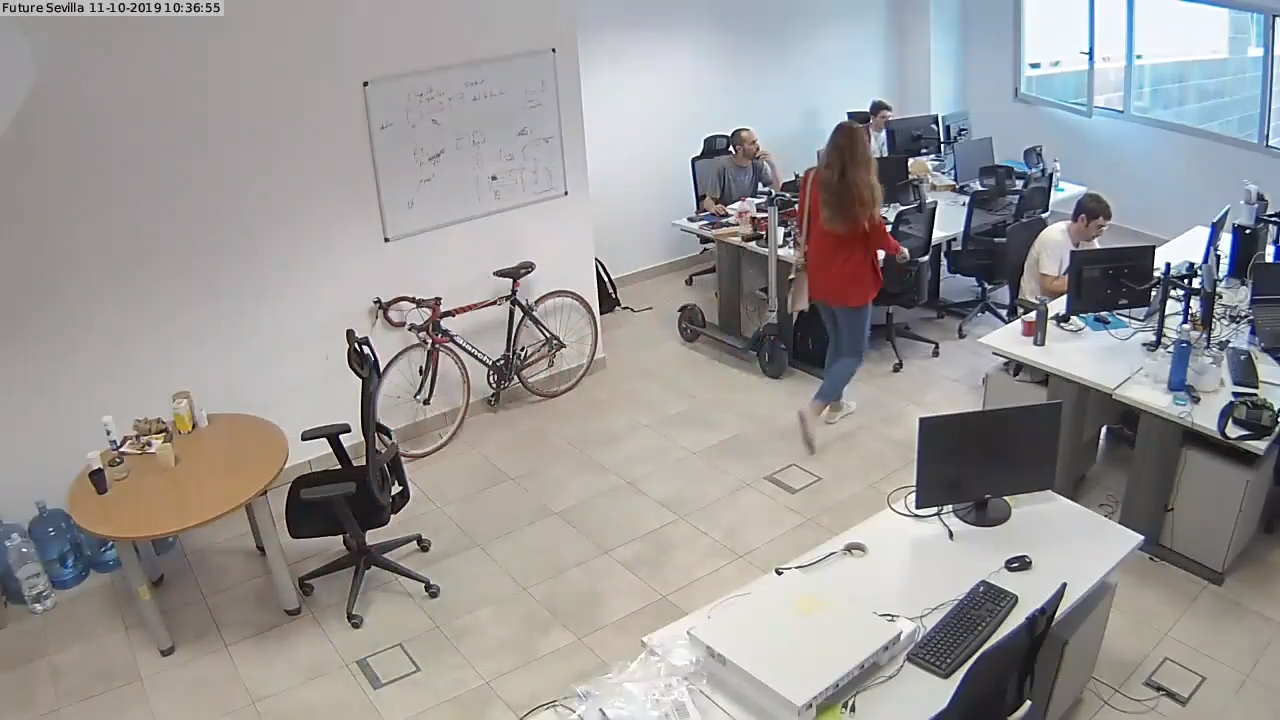head: (1063, 185, 1119, 250), (820, 115, 870, 172), (721, 113, 764, 164), (854, 94, 896, 135)
